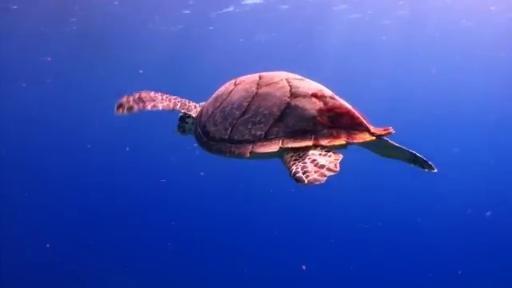Fish: (116, 72, 435, 183)
